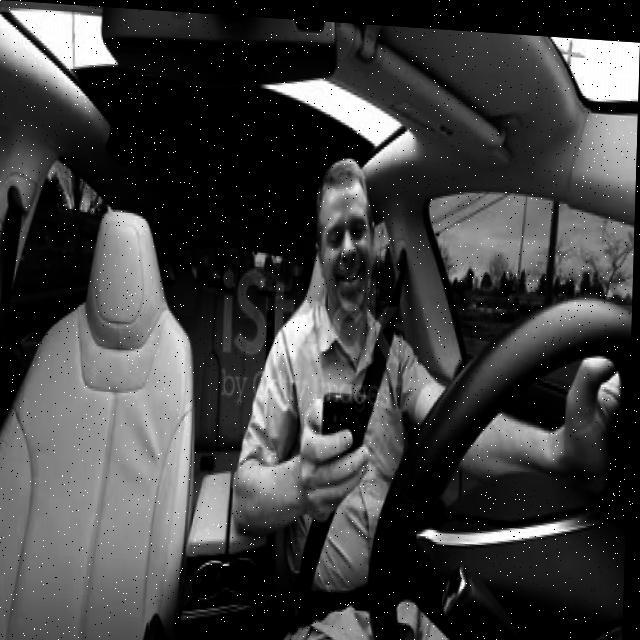PhoneCall: (322, 387, 370, 491)
